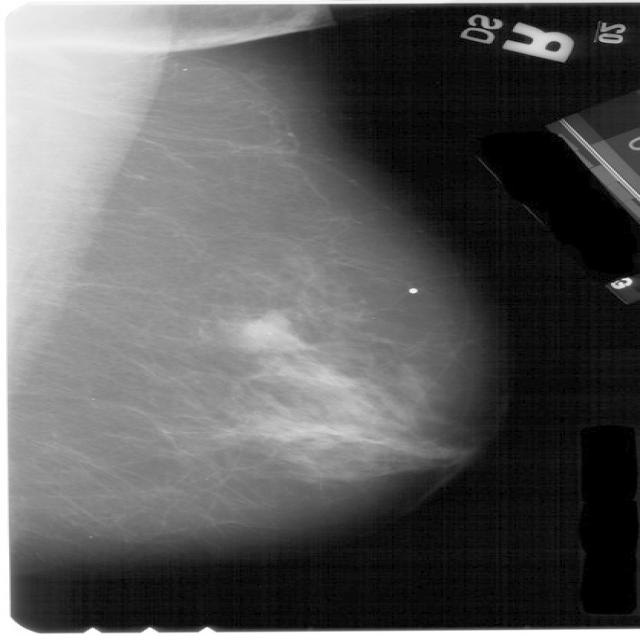tumour: (236, 312, 309, 354)
